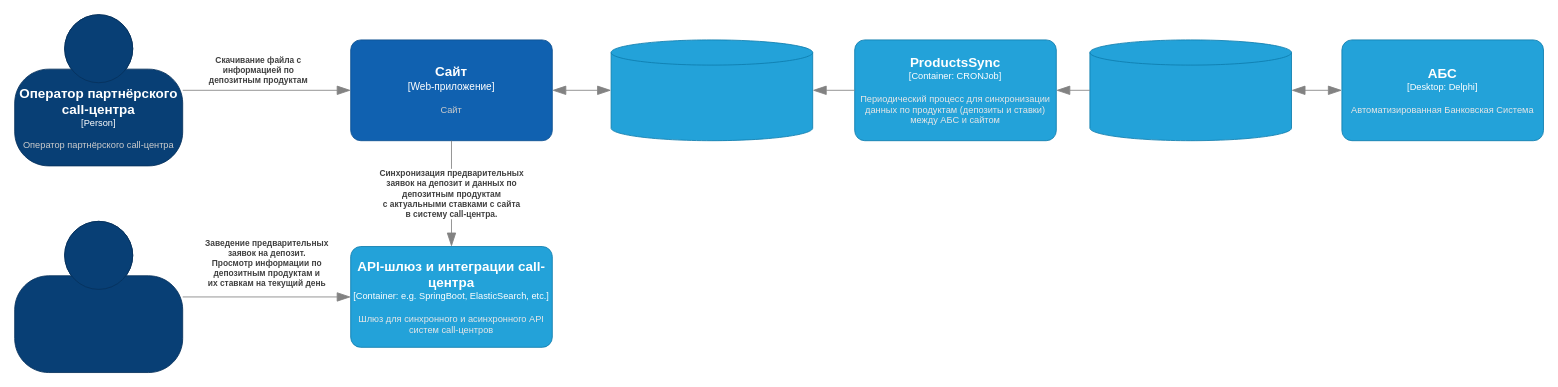
Image size: 1558x387. Some labels were removed from this diagram. Each missing label, with the centre of its shape:
БД АБС [Container: Oracle] База данных АБС: the point at 1190,90
Оператор call-центра [Person] Оператор call-центра: the point at 98,296
СУБД Сайта [Container: PostgreSQL] База данных сайта: the point at 711,90
